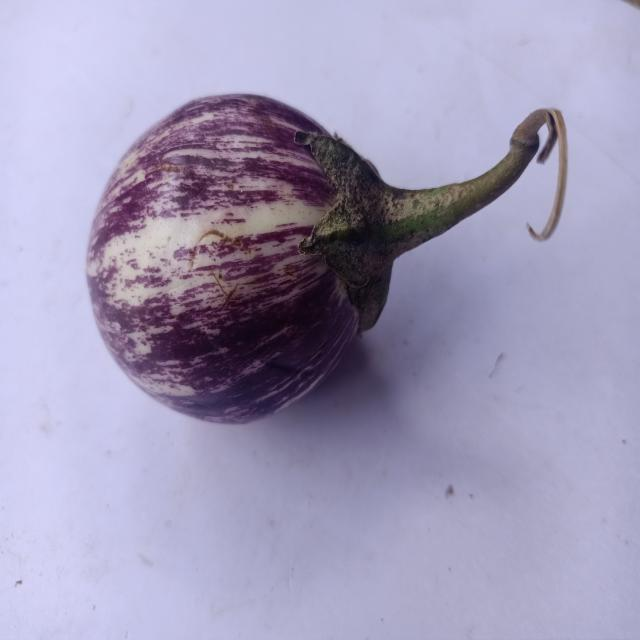Eggplant: (63, 75, 584, 447)
